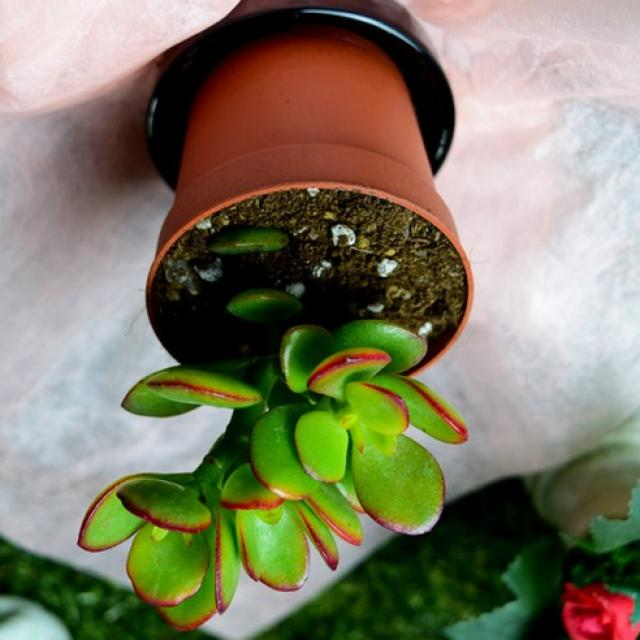Crassula: (79, 357, 361, 629), (249, 319, 468, 534), (228, 289, 300, 322)
